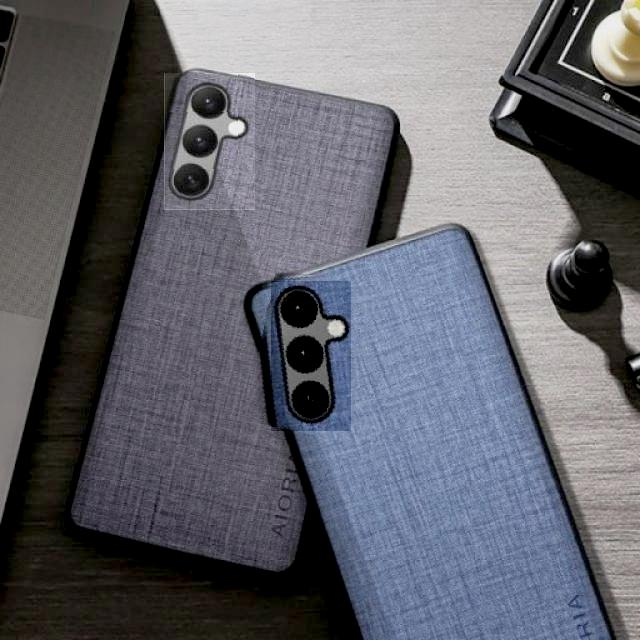lens: (168, 78, 239, 204), (279, 285, 337, 425)
